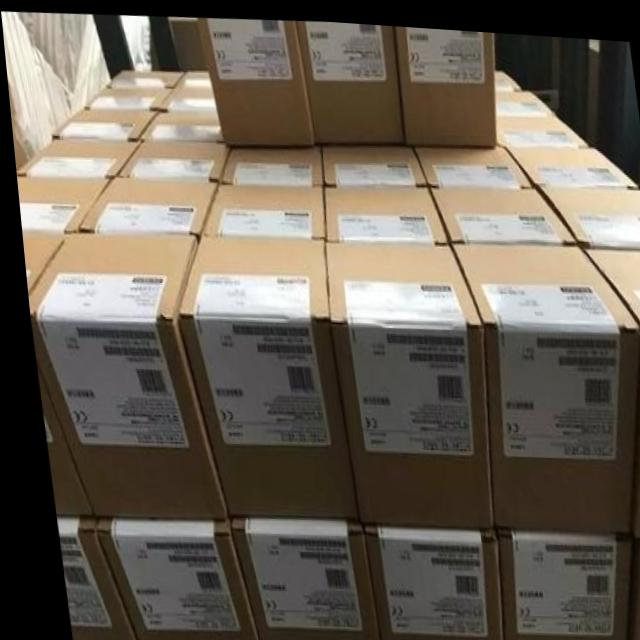box: (22, 228, 221, 516), (444, 232, 636, 520), (173, 232, 347, 515), (319, 235, 482, 519), (83, 512, 246, 640), (218, 512, 365, 640), (577, 238, 640, 528), (352, 516, 491, 640), (486, 517, 624, 640), (197, 17, 314, 142), (296, 18, 402, 137), (393, 21, 494, 142), (49, 514, 125, 640), (72, 172, 218, 233), (429, 179, 571, 235), (319, 178, 447, 237), (534, 172, 640, 241), (31, 371, 80, 515), (195, 180, 320, 234), (504, 135, 636, 179), (13, 173, 107, 229), (112, 134, 225, 178), (14, 132, 135, 173), (409, 139, 528, 180), (317, 137, 424, 182), (218, 136, 318, 181), (17, 223, 69, 291), (49, 105, 156, 135), (493, 106, 584, 140), (615, 526, 640, 640), (139, 106, 219, 139), (82, 83, 170, 107), (167, 17, 207, 64), (493, 80, 553, 109), (104, 65, 181, 85), (158, 86, 211, 108), (172, 66, 207, 87), (491, 62, 518, 85)
